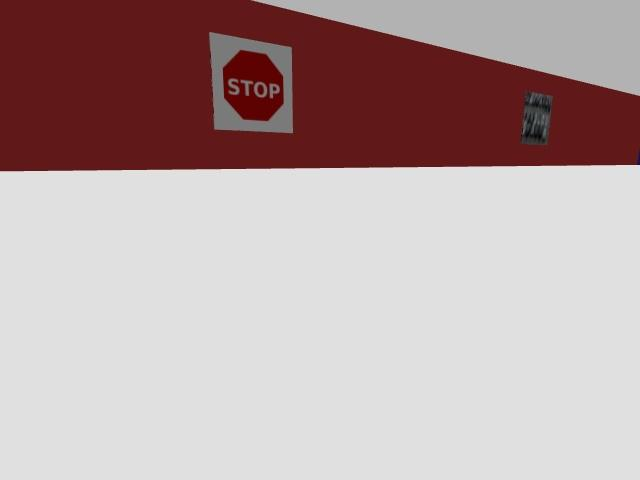stopsign: (210, 33, 292, 133)
